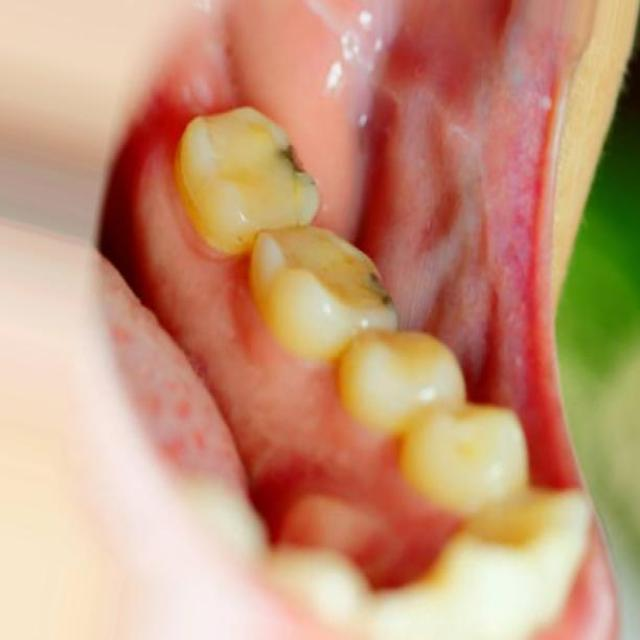caries: (271, 130, 326, 203), (355, 255, 399, 321)
